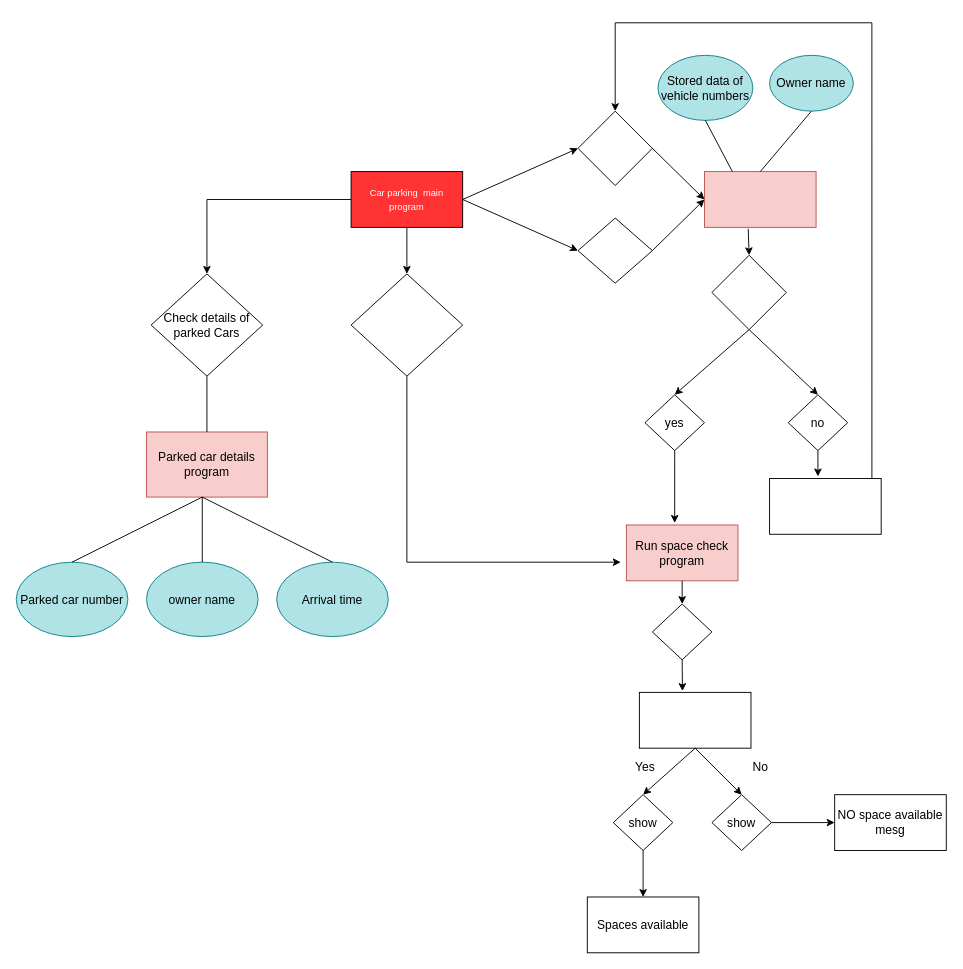
Some shapes in this 963 by 969 pixel diagram are drawn without their labels. Each missing label, with the centre of its shape:
"Add into database" belongs at point (614, 148).
"Check in databse" belongs at point (748, 292).
"Check parking space" belongs at point (406, 324).
"Cheking" belongs at point (681, 631).
"Data base check program" belongs at point (760, 199).
"empty spaces" belongs at point (694, 719).
"Input of number" belongs at point (614, 250).
"Unauthorised" belongs at point (825, 506).
